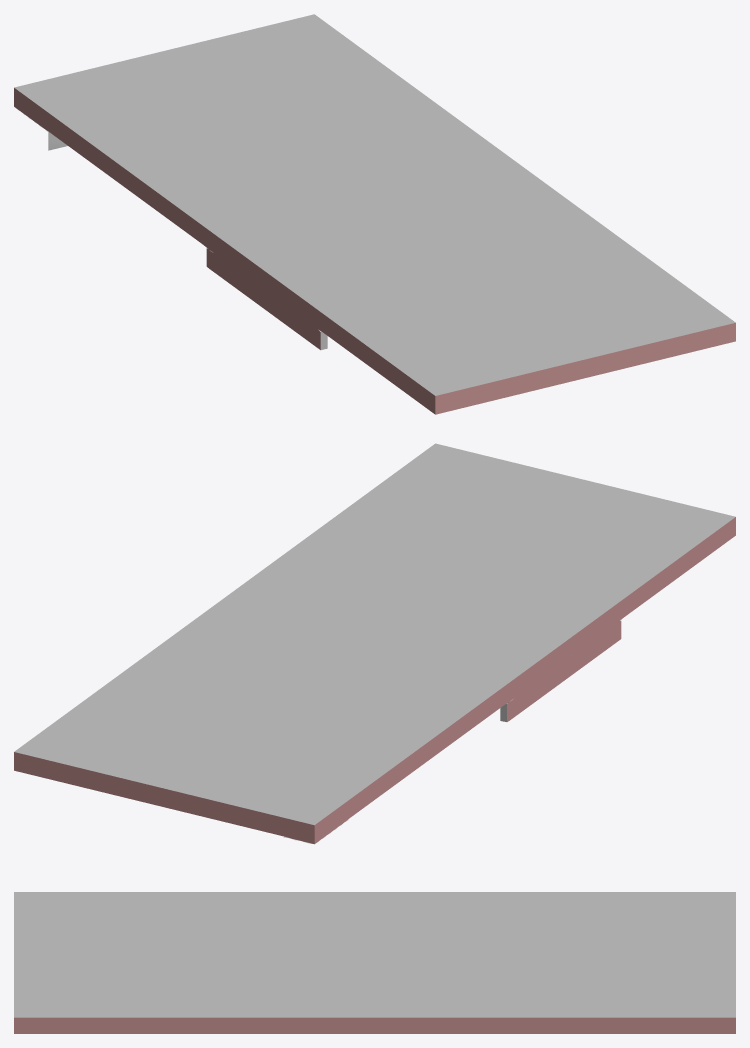
The model's file is 21a96bfe-1d2f-4913-a727-8c72a07cf272-003cfebb.glb.
3 views of the same model, one above another, from view 1: azimuth 30°, elevation 25°; view 2: azimuth 150°, elevation 25°; view 3: azimuth 270°, elevation 25° (orthographic). The views are drawn at different scales.
Visible parts, largest first — view 1: sopnet4; view 2: sopnet4; view 3: sopnet4.
Part boxes in pixels (x1,y1,x2,y2): sopnet4: (14,14,735,414); sopnet4: (14,443,735,844); sopnet4: (14,892,735,1033).
Bounding box in the file's own units: 3.04 × 0.37 × 7.38.
